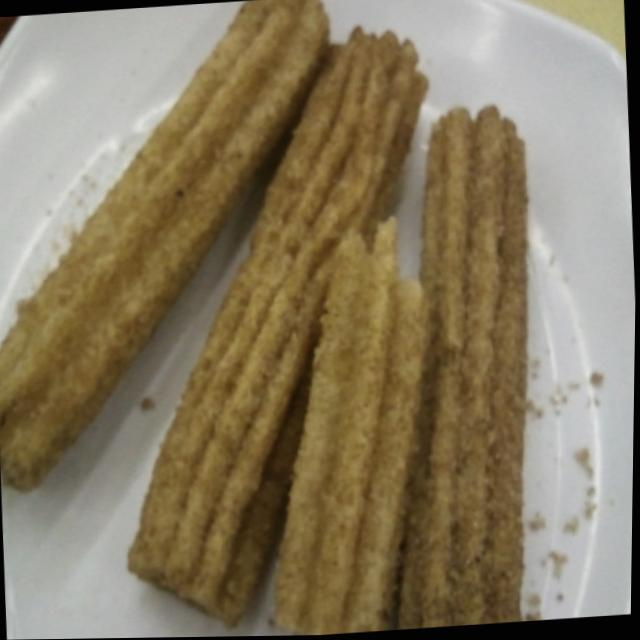炸货点心: (0, 9, 613, 640)
